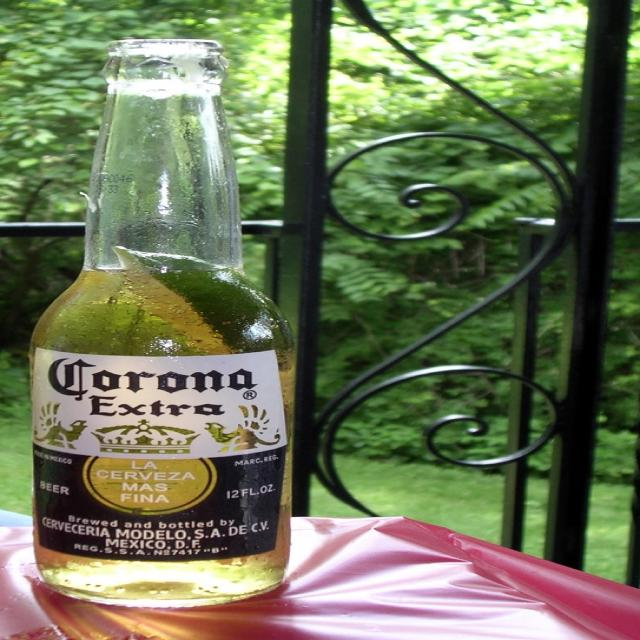corona: (33, 349, 291, 563)
